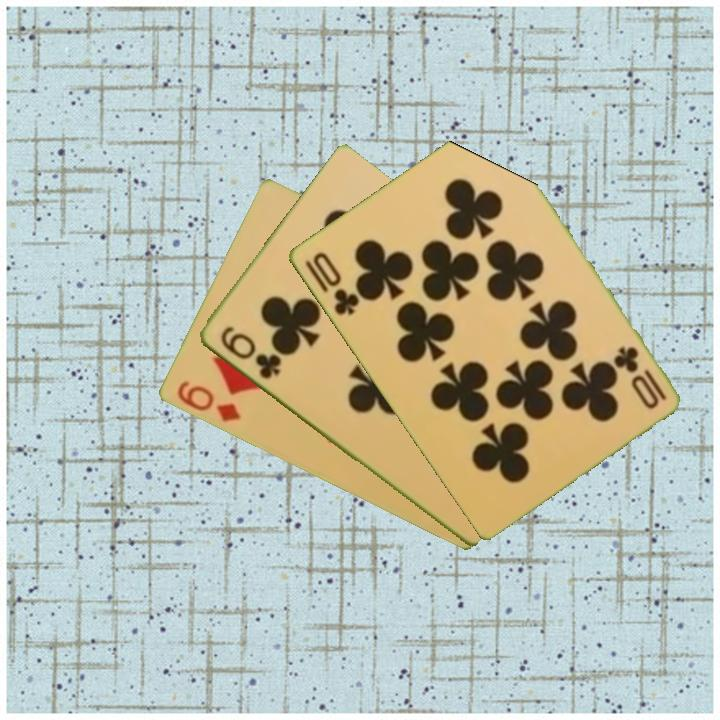10c: (300, 248, 362, 319), (610, 342, 669, 412)
6c: (216, 322, 284, 383)
6d: (173, 377, 243, 425)
